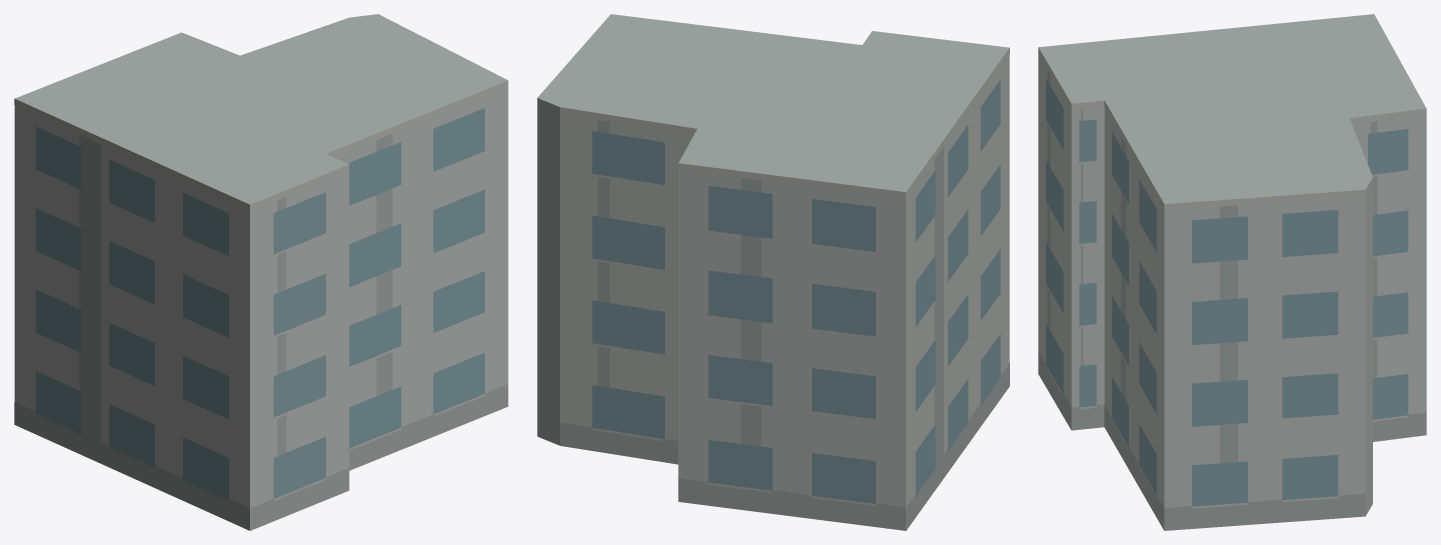
File: residential-85c8a7ed-abdb-4576-ab8d-b0c84fc89690.glb
The picture shows the model from 3 angles, left to right: view 1: azimuth 30°, elevation 25°; view 2: azimuth 150°, elevation 25°; view 3: azimuth 270°, elevation 25°; orthographic projection. The views are drawn at different scales.
Parts seen in each view (by area): view 1: residential-85c8a7ed-abdb-4576-ab8d-b0c84fc89690.tmp; view 2: residential-85c8a7ed-abdb-4576-ab8d-b0c84fc89690.tmp; view 3: residential-85c8a7ed-abdb-4576-ab8d-b0c84fc89690.tmp.
Part boxes in pixels (box(x1,y1,x2,y2)): residential-85c8a7ed-abdb-4576-ab8d-b0c84fc89690.tmp: box(14, 14, 508, 530); residential-85c8a7ed-abdb-4576-ab8d-b0c84fc89690.tmp: box(537, 14, 1009, 530); residential-85c8a7ed-abdb-4576-ab8d-b0c84fc89690.tmp: box(1038, 14, 1426, 530).
Bounding box in the file's own units: 15.24 × 12.2 × 13.15.
